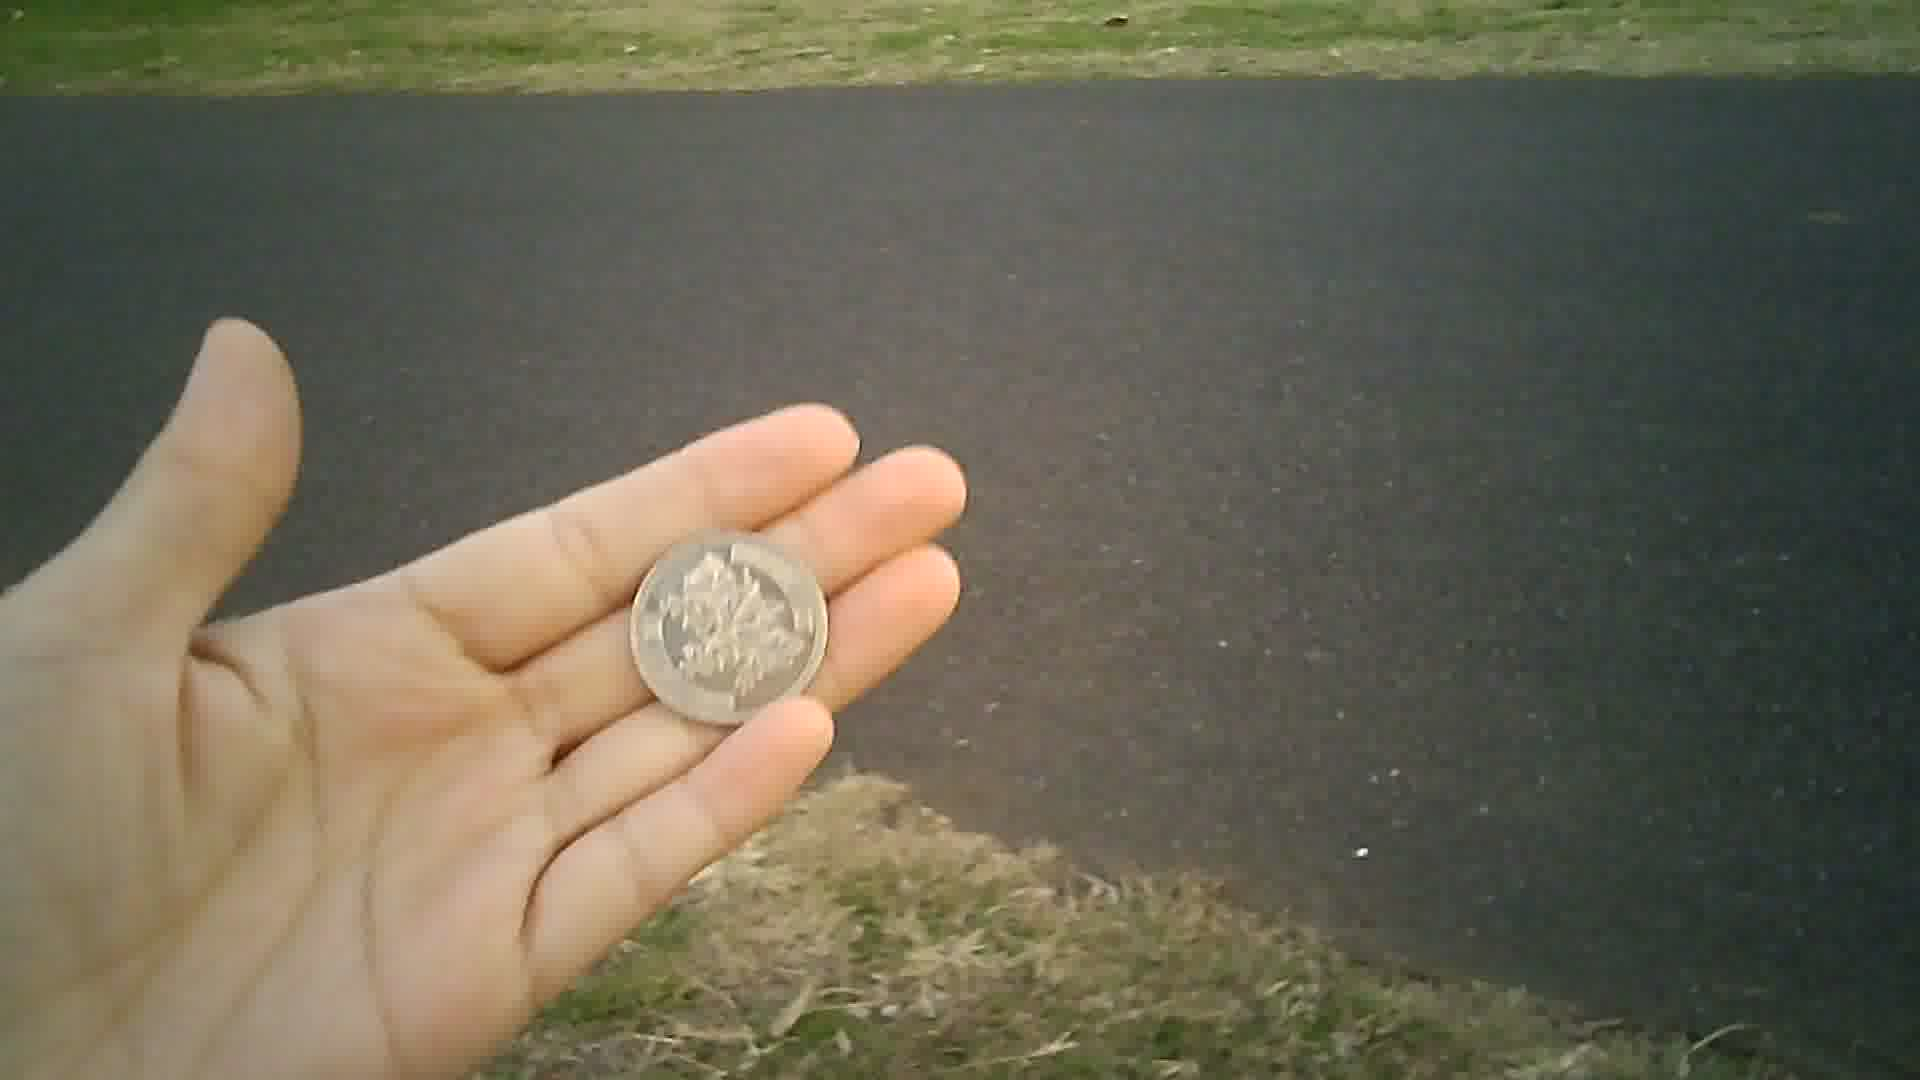500 Yen: (628, 524, 829, 729)
